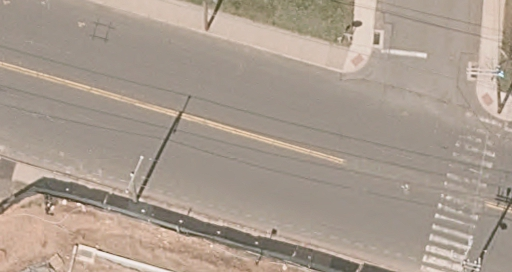DT: (124, 154, 142, 202)
